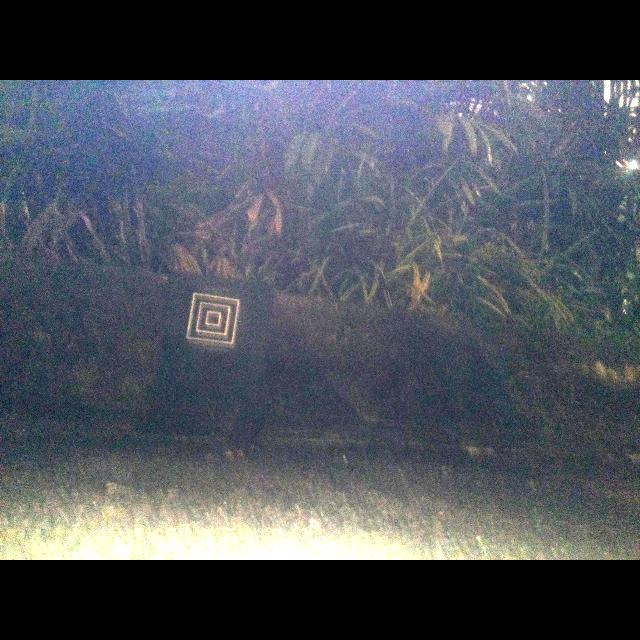BULLSEYE: (187, 293, 240, 348)
